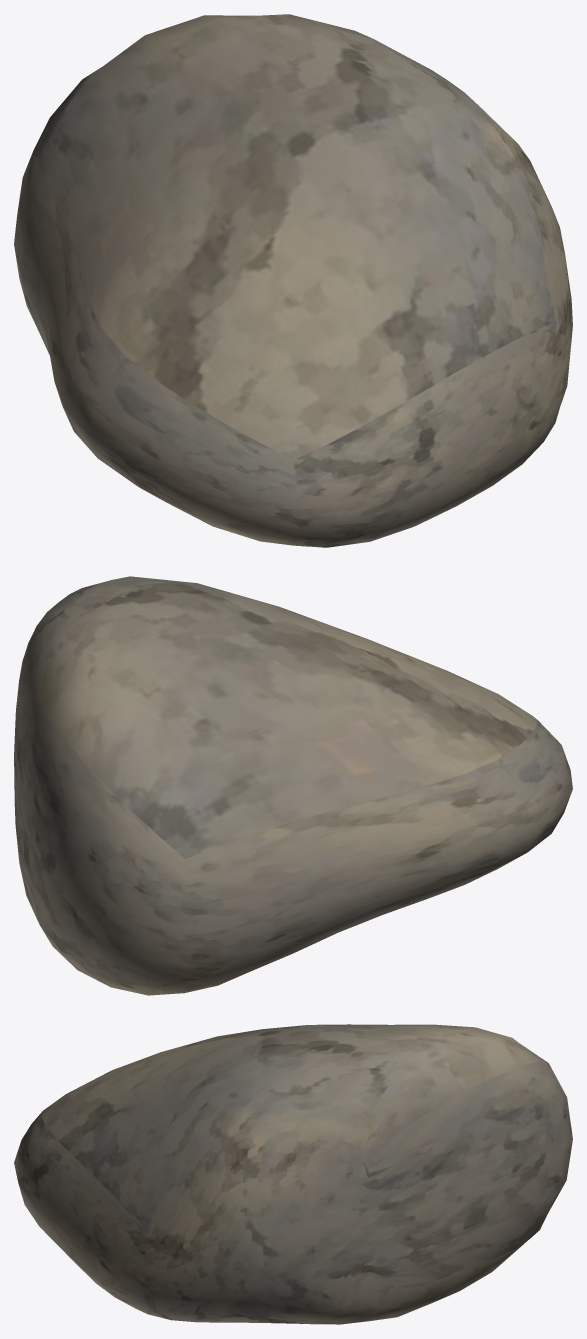
The model's file is pedra.fbx.
The picture shows the model from 3 angles, top to bottom: view 1: azimuth 30°, elevation 25°; view 2: azimuth 150°, elevation 25°; view 3: azimuth 270°, elevation 25°; orthographic projection. The views are drawn at different scales.
Visible parts, largest first — view 1: Cube; view 2: Cube; view 3: Cube.
Part boxes in pixels (x1,y1,x2,y2): Cube: [14, 14, 572, 547]; Cube: [14, 576, 572, 995]; Cube: [14, 1024, 572, 1324].
Bounding box in the file's own units: 610 × 398 × 764.
Materials: 1 (1 with a texture image).
